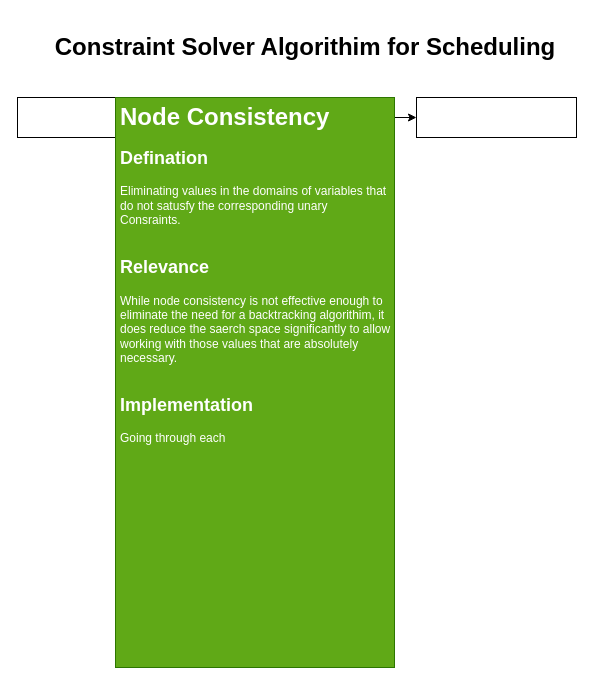
The diagram is 594 pixels wide and 685 high, and some of its shapes have lost their labels. Each missing label, with the centre of its shape:
Backtracking: the point at 496,117
Node Consistency: the point at 96,117
